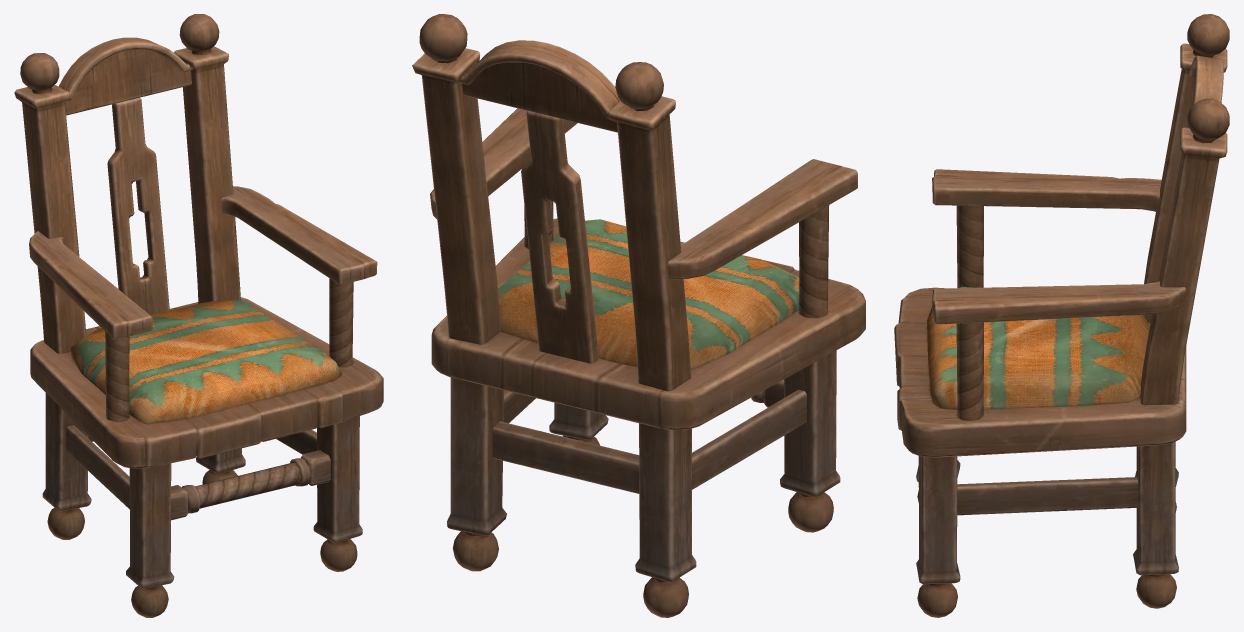
3 renders of one model, left to right at view 1: azimuth 30°, elevation 25°; view 2: azimuth 150°, elevation 25°; view 3: azimuth 270°, elevation 25°, orthographic. The views are drawn at different scales.
Parts seen in each view (by area): view 1: SM_Umbral_Sands_Armchair_01v1_LOD0; view 2: SM_Umbral_Sands_Armchair_01v1_LOD0; view 3: SM_Umbral_Sands_Armchair_01v1_LOD0.
Part boxes in pixels (left/top/right/bottom): SM_Umbral_Sands_Armchair_01v1_LOD0: left=14, top=14, right=383, bottom=617; SM_Umbral_Sands_Armchair_01v1_LOD0: left=412, top=14, right=865, bottom=617; SM_Umbral_Sands_Armchair_01v1_LOD0: left=894, top=14, right=1229, bottom=617.
Size of the model in its own units: 0.7267 by 1.22 by 0.7314.
1 material, 1 textured.
